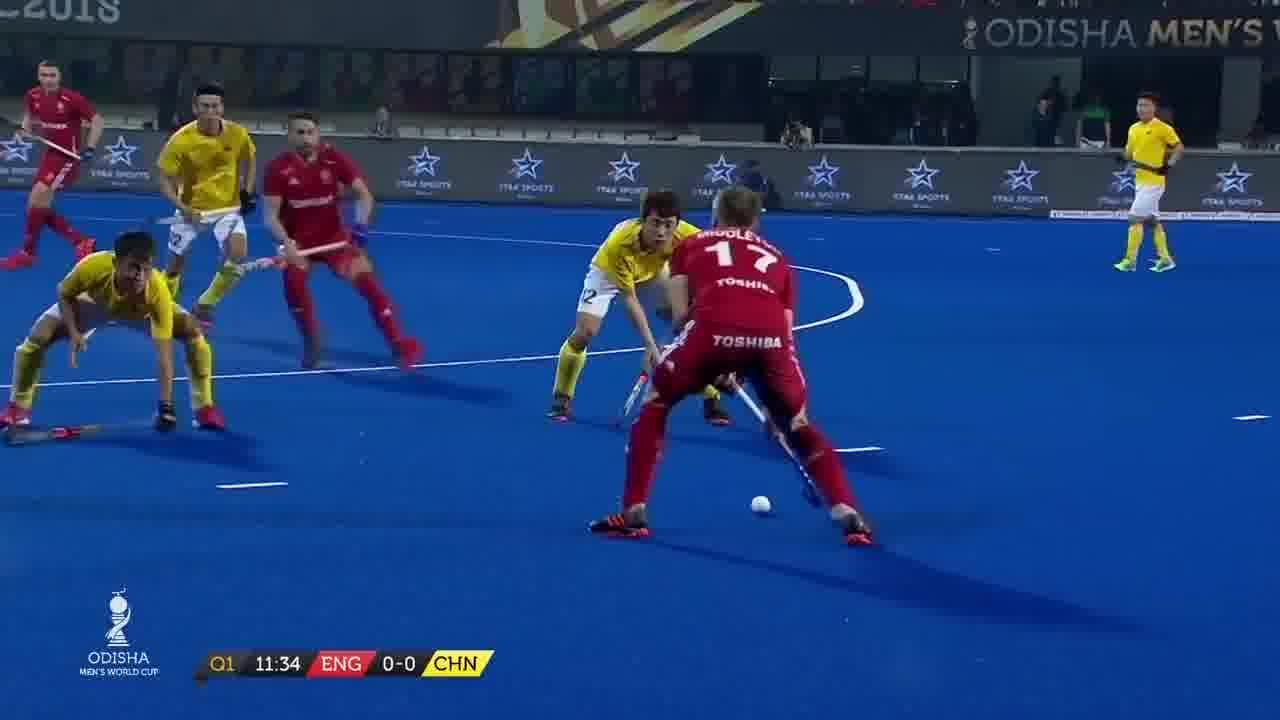ball: (742, 486, 784, 524)
